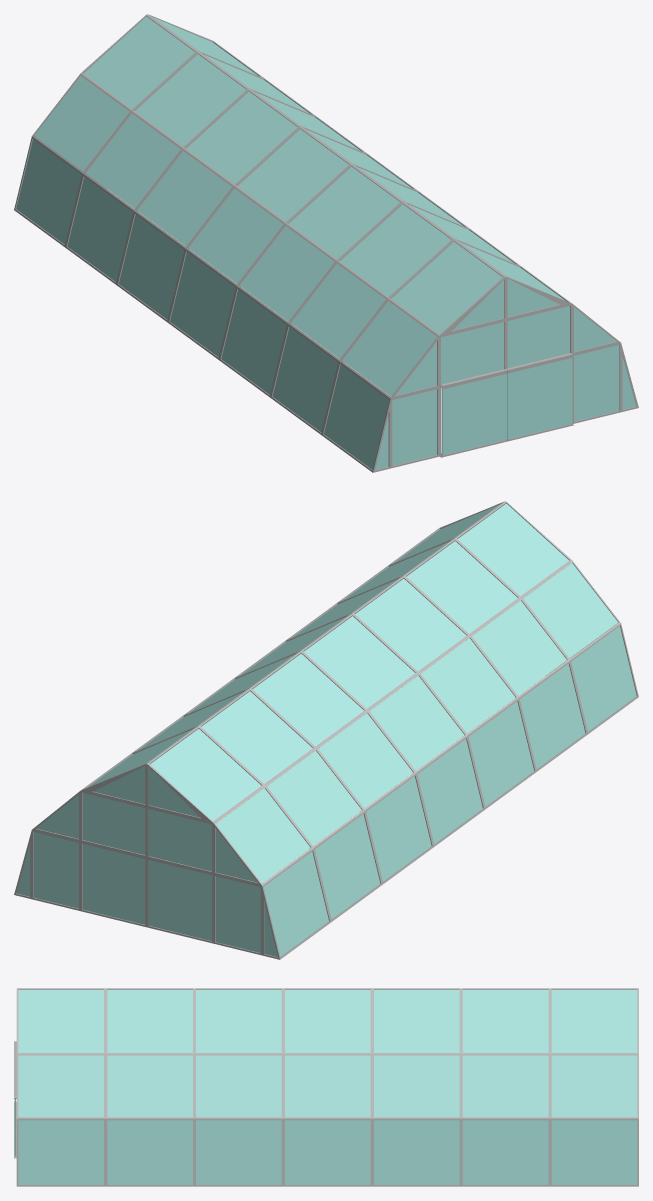
Rendered from greenhouse01.fbx.
The picture shows the model from 3 angles, top to bottom: view 1: azimuth 30°, elevation 25°; view 2: azimuth 150°, elevation 25°; view 3: azimuth 270°, elevation 25°; orthographic projection. The views are drawn at different scales.
Visible parts, largest first — view 1: greenhouse01, greenhouse01leftdoor, greenhouse01rightdoor; view 2: greenhouse01; view 3: greenhouse01.
Boxes of the visible parts, x1,y1,x2,y2 form: greenhouse01: (14,14,638,472); greenhouse01leftdoor: (440,369,507,457); greenhouse01rightdoor: (506,353,573,441); greenhouse01: (14,501,638,959); greenhouse01: (16,988,638,1186).
Bounding box in the file's own units: 529 × 312 × 1240.
